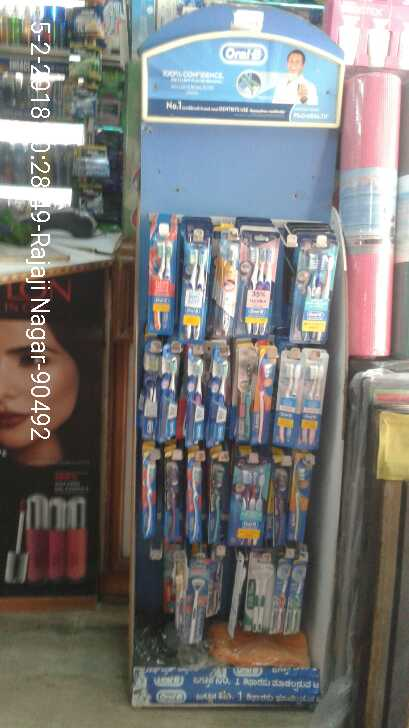oralb: (140, 443, 324, 547), (283, 238, 343, 351), (240, 219, 279, 344), (144, 223, 181, 342), (268, 354, 318, 441), (178, 227, 212, 340), (209, 230, 239, 339), (154, 345, 182, 446), (184, 344, 210, 445), (247, 350, 269, 444), (209, 348, 228, 441)
